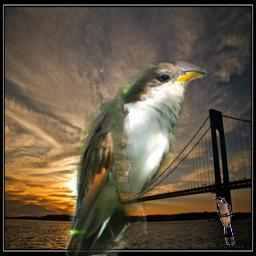Cuckoo: (66, 61, 207, 256), (211, 197, 235, 245)
